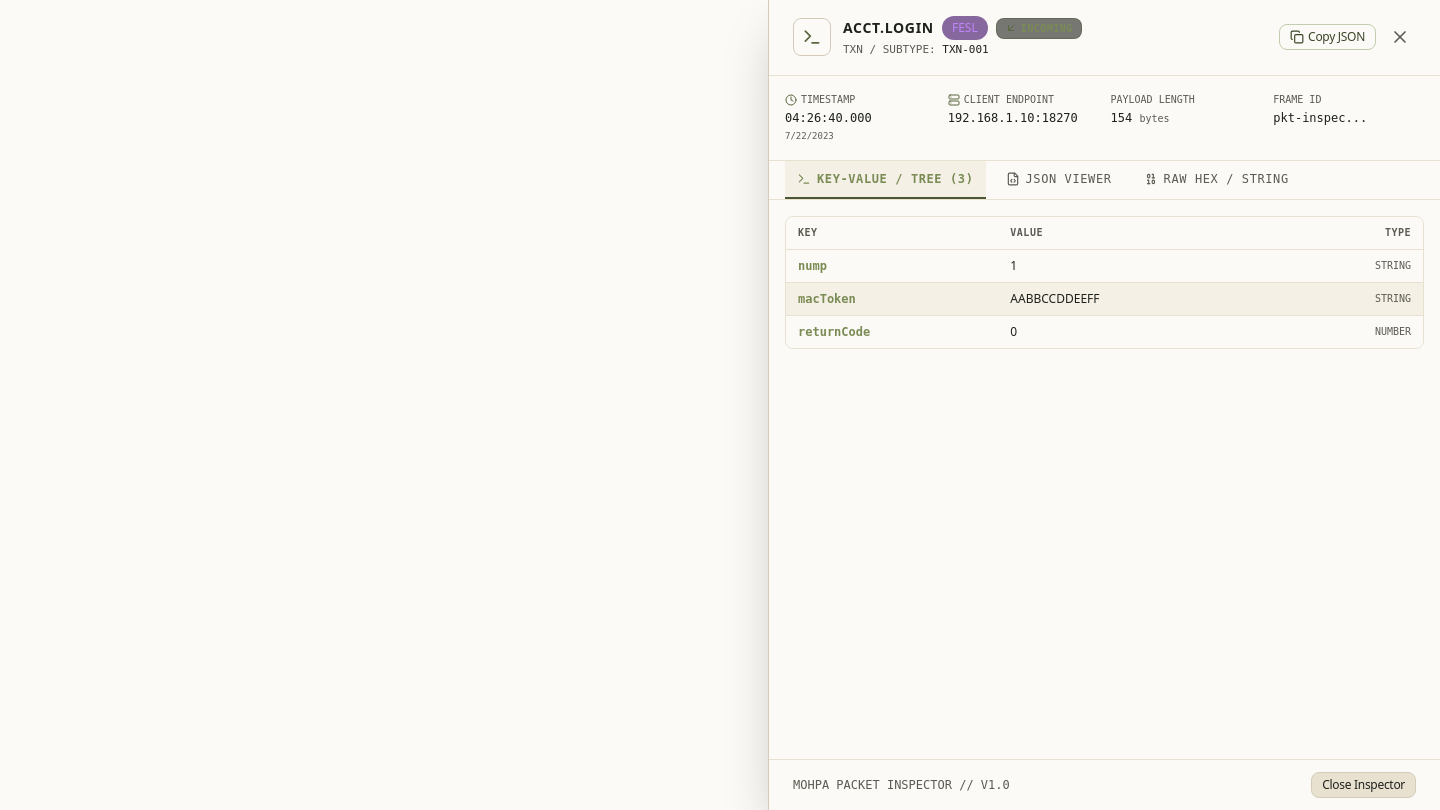
Test: Admin UI Components Tests › renders PacketDetailsDrawer with tabs and Key-Value tree
The image size is (1440, 810).
Expected: the heading "acct.login" is shown, [843,18,934,38]
Expected: the text "TXN-001" is shown, [942,43,989,56]
Note: Switch to JSON viewer
Click the button "JSON Viewer" at (1059, 180), box [994,160,1124,198]
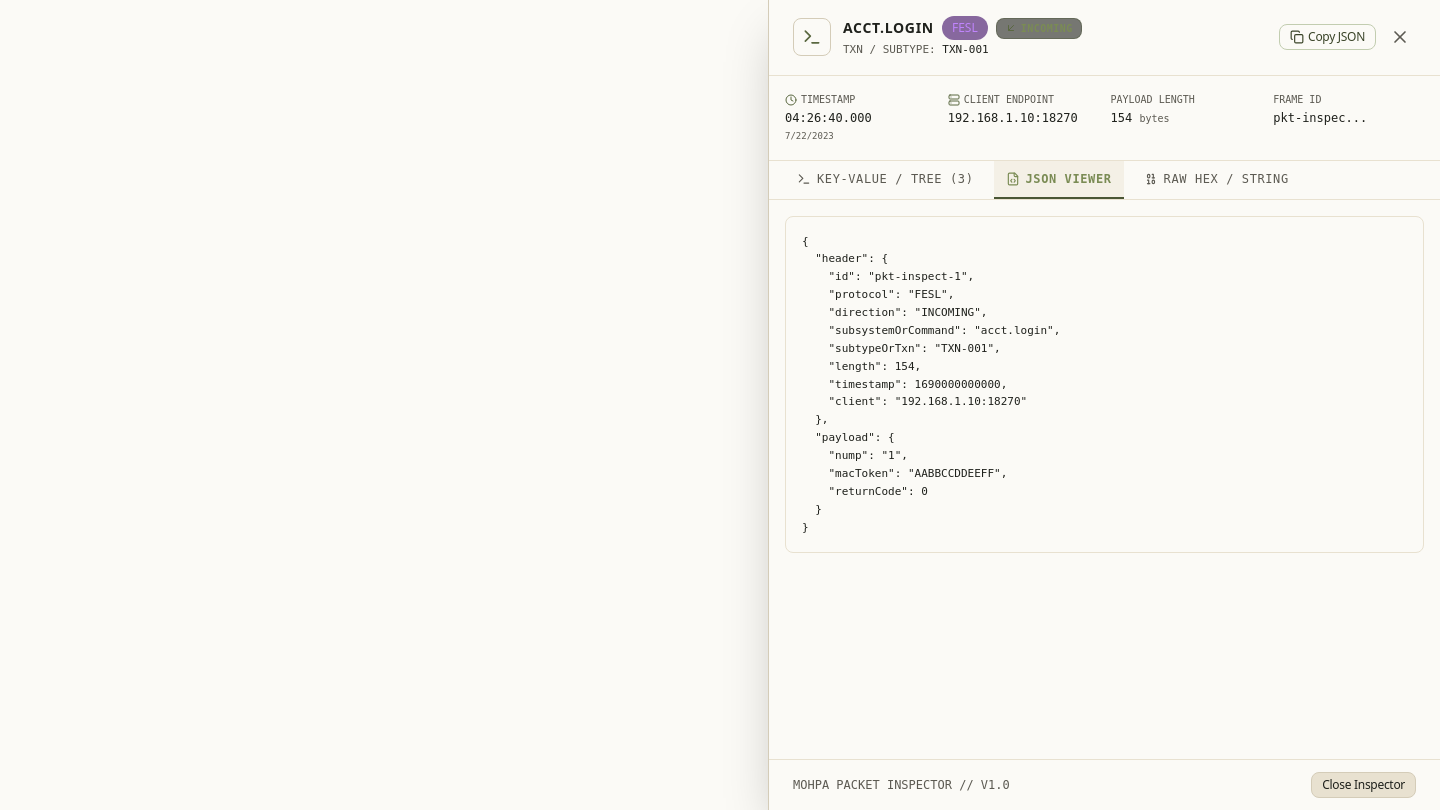
Expected: the text "TXN-001" is shown, [942,43,989,56]
Note: Switch to Hex dump
Click the button "Raw Hex / String" at (1216, 180), box [1132,160,1301,198]
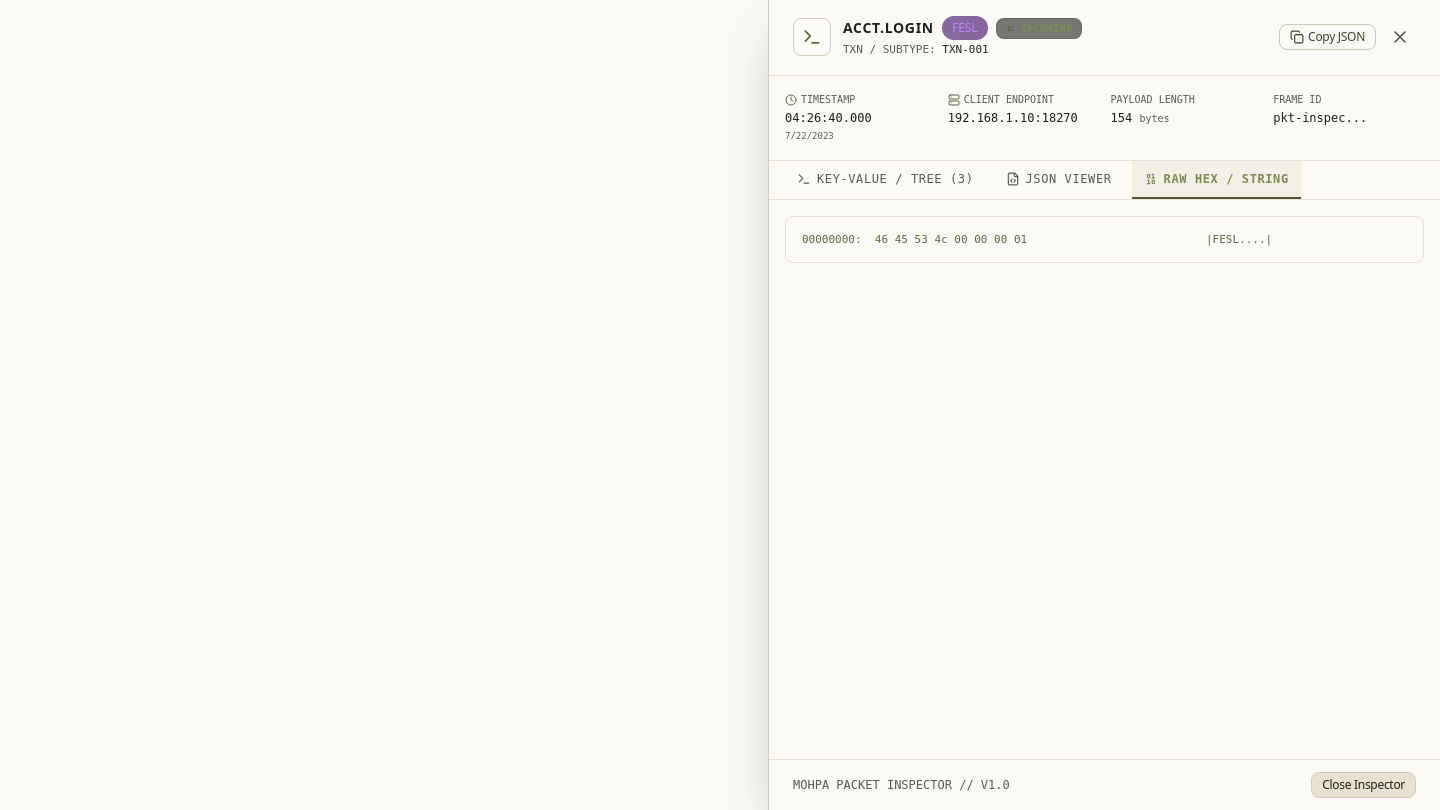
Expected: the text "00000000: 46 45 53 4c 00 00 00 01 |FESL....|" is shown, [802,232,1272,246]
